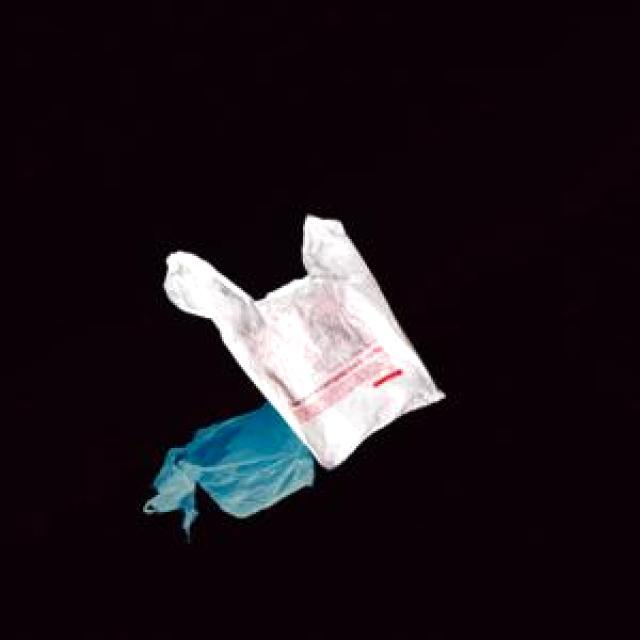Plastic_Bag: (161, 212, 441, 466), (144, 398, 310, 528)
